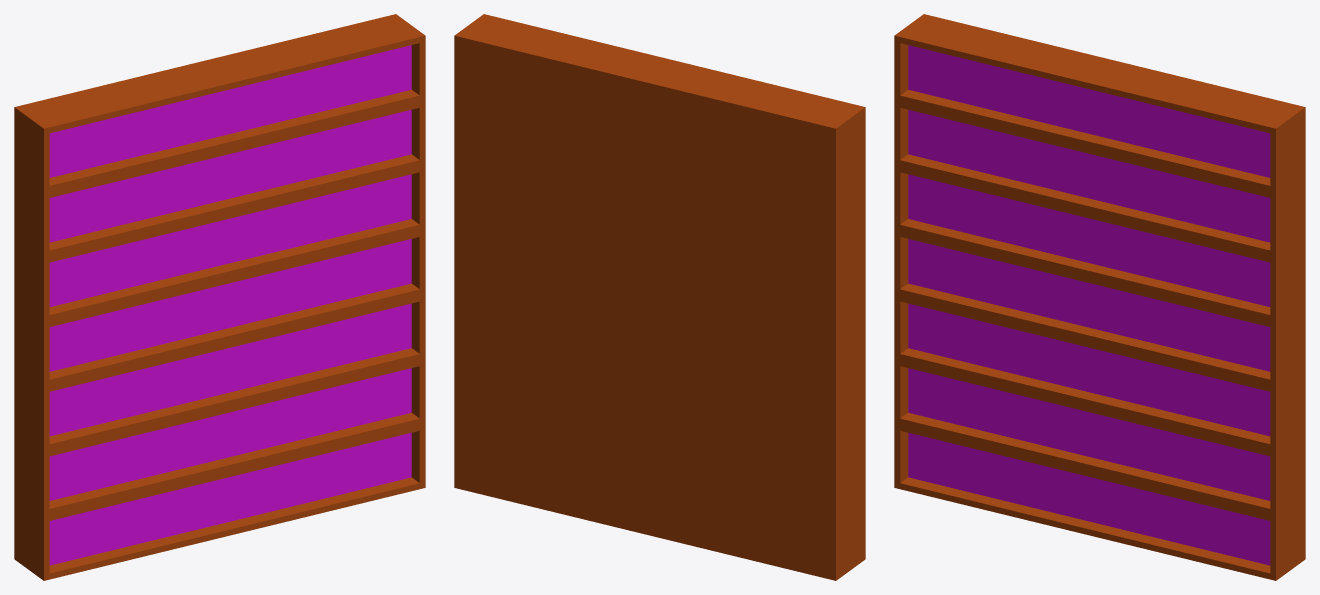
Rendered from BokShelf.fbx.
3 views of the same model, side by side, from view 1: azimuth 30°, elevation 25°; view 2: azimuth 150°, elevation 25°; view 3: azimuth 330°, elevation 25° (orthographic).
Visible parts, largest first — view 1: Cube; view 2: Cube; view 3: Cube.
Boxes of the visible parts, bbox=[...] form: Cube: bbox=[14, 14, 425, 580]; Cube: bbox=[454, 14, 865, 580]; Cube: bbox=[894, 14, 1305, 580].
Size of the model in its own units: 150 by 170 by 20.09.
